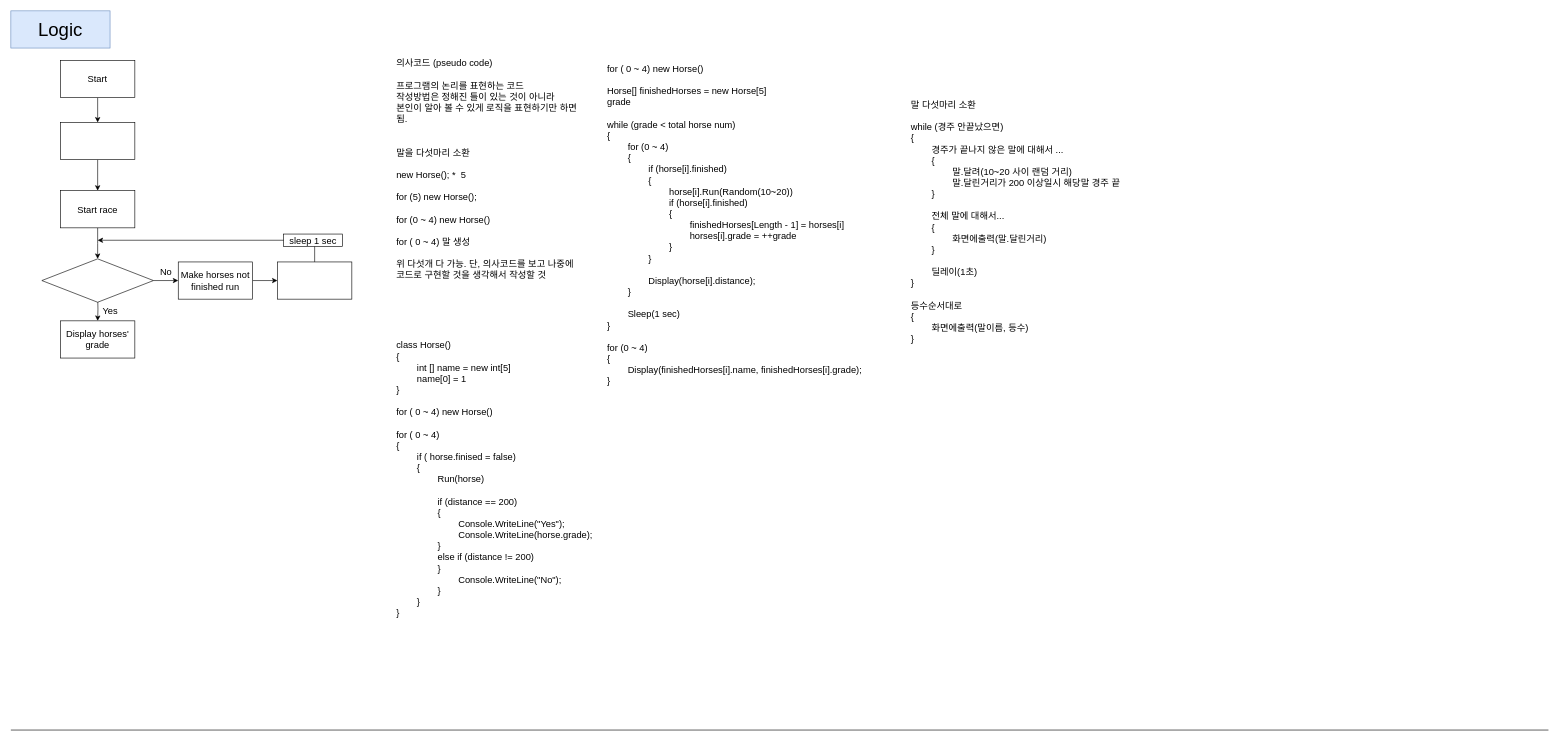
This 1560x742 diagram has some shape labels left out. The centre of each missing label's shape, as x and y in pixels:
Display every single of horse distance: the point at 314,280
Is race finished?: the point at 97,280
Spawn 5 horses: the point at 97,141
